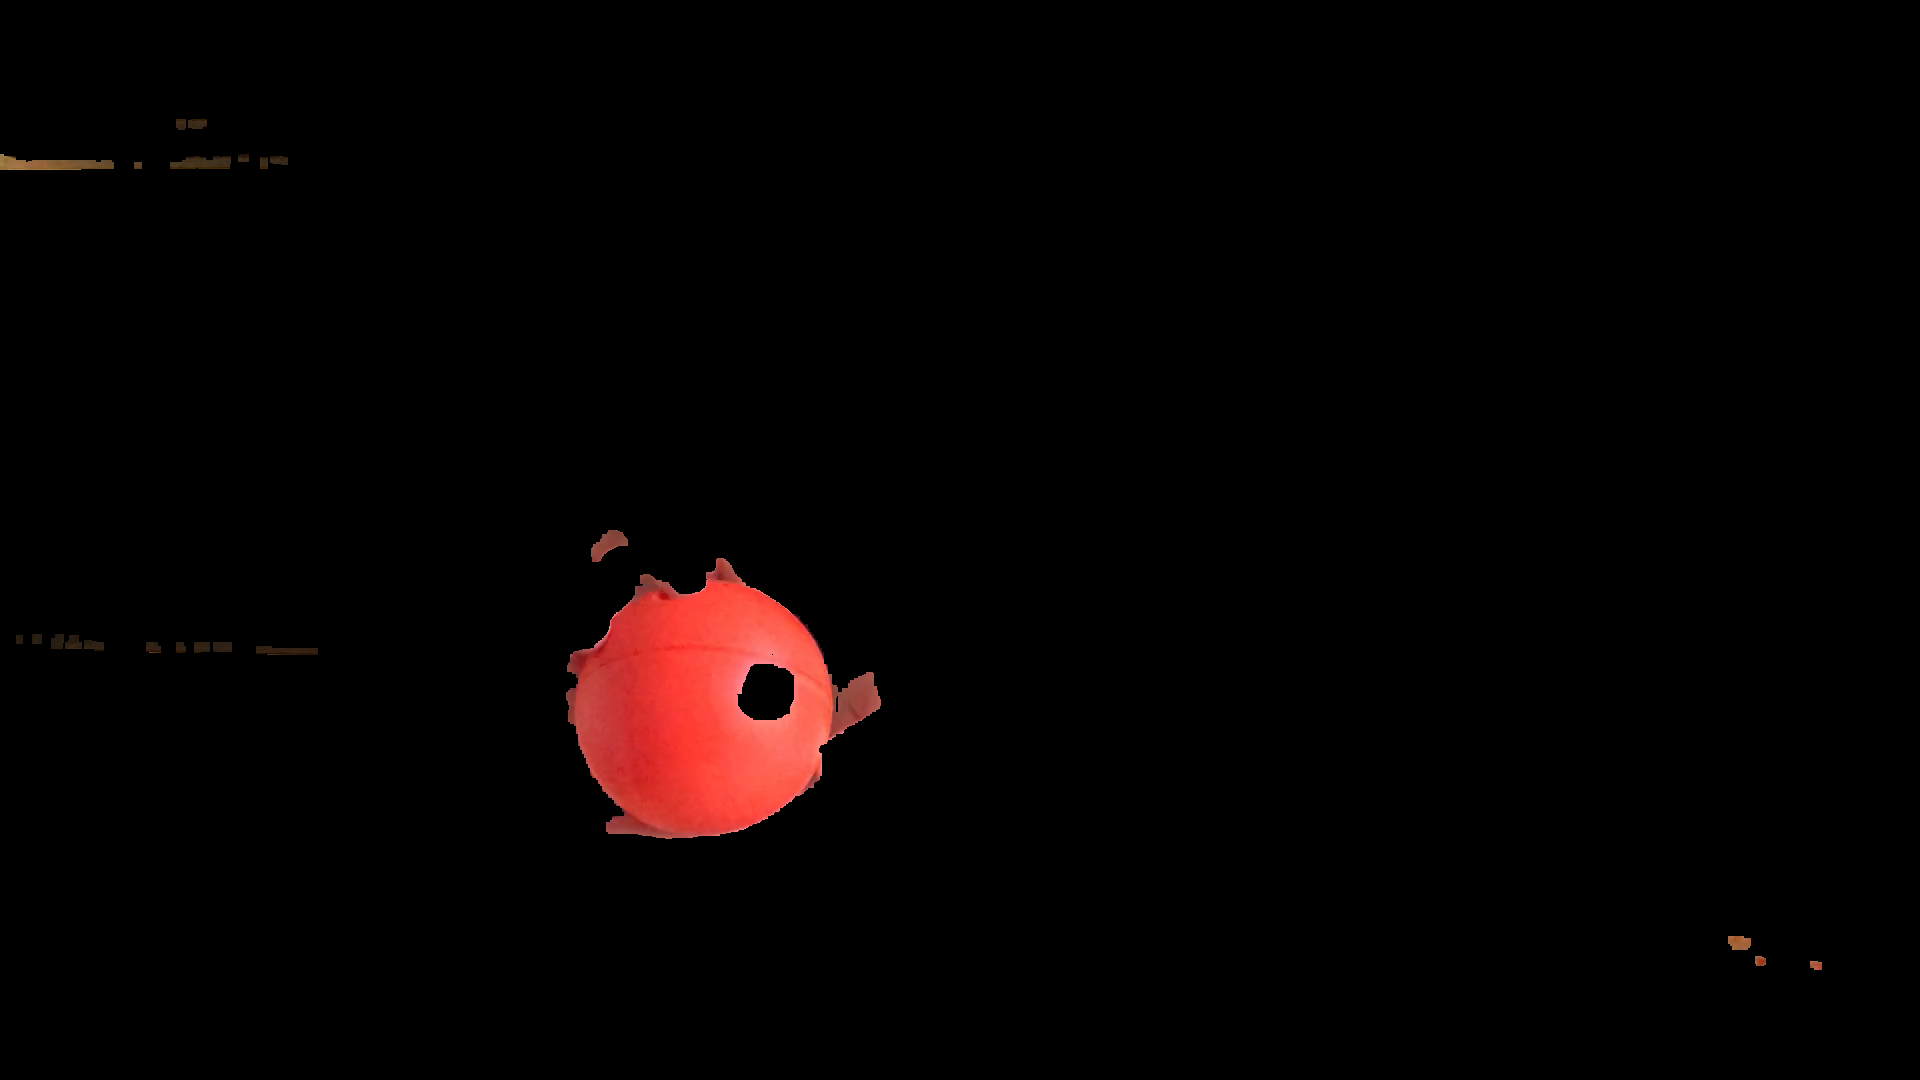Ball: (568, 576, 837, 855)
